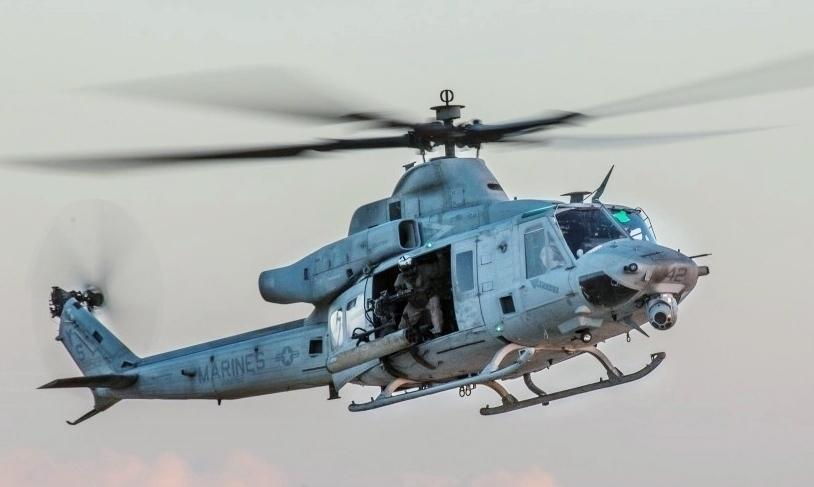MilitaryHelicopter: (61, 69, 693, 447)
